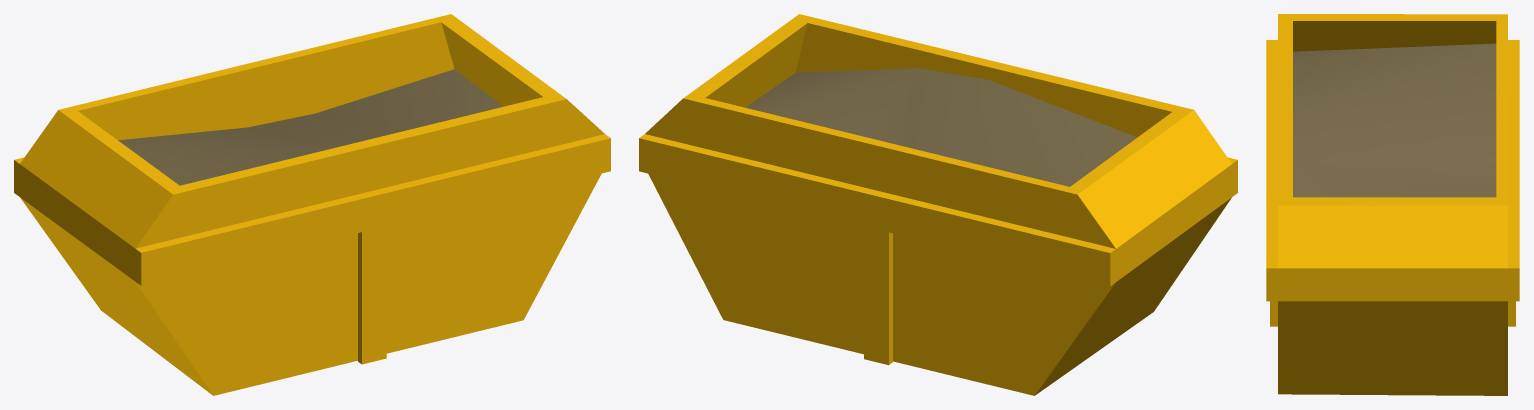
File: container1.fbx
The picture shows the model from 3 angles, left to right: view 1: azimuth 30°, elevation 25°; view 2: azimuth 150°, elevation 25°; view 3: azimuth 270°, elevation 25°; orthographic projection.
Visible parts, largest first — view 1: container1; view 2: container1; view 3: container1.
Boxes of the visible parts, x1,y1,x2,y2 form: container1: (14,14,610,395); container1: (639,14,1237,395); container1: (1266,14,1519,395).
Bounding box in the file's own units: 399 × 172 × 187.
